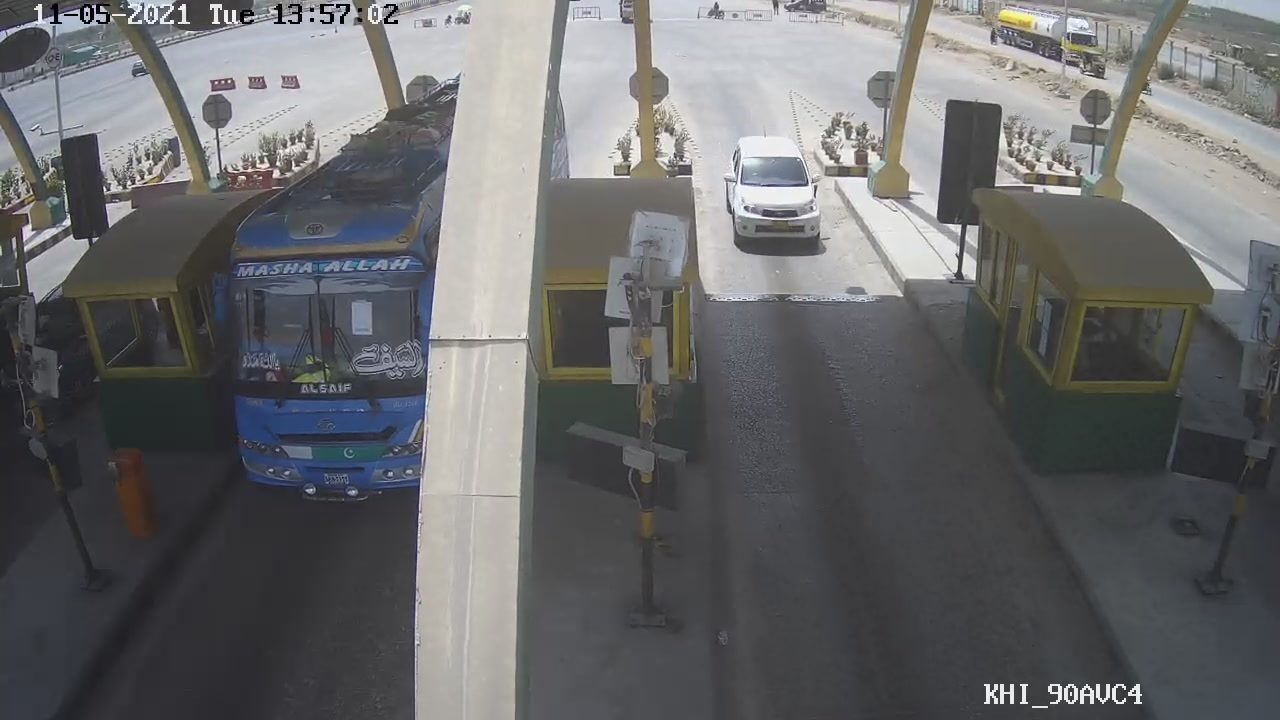F1: (717, 125, 842, 255)
